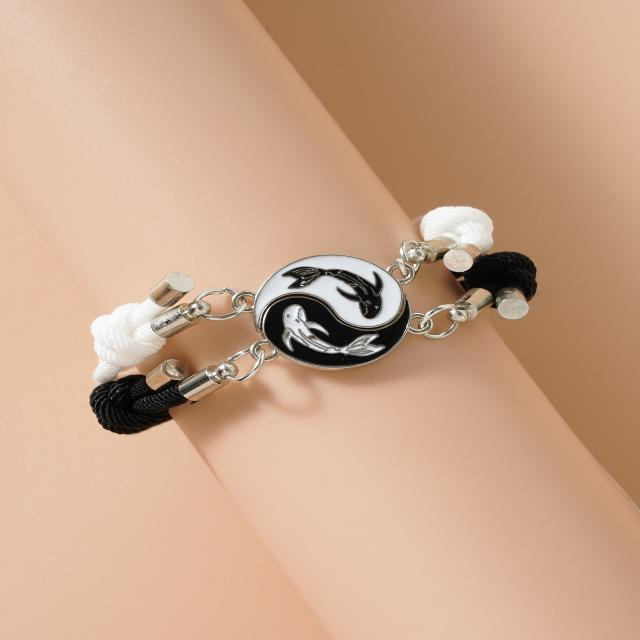bracelet: (15, 112, 596, 468)
